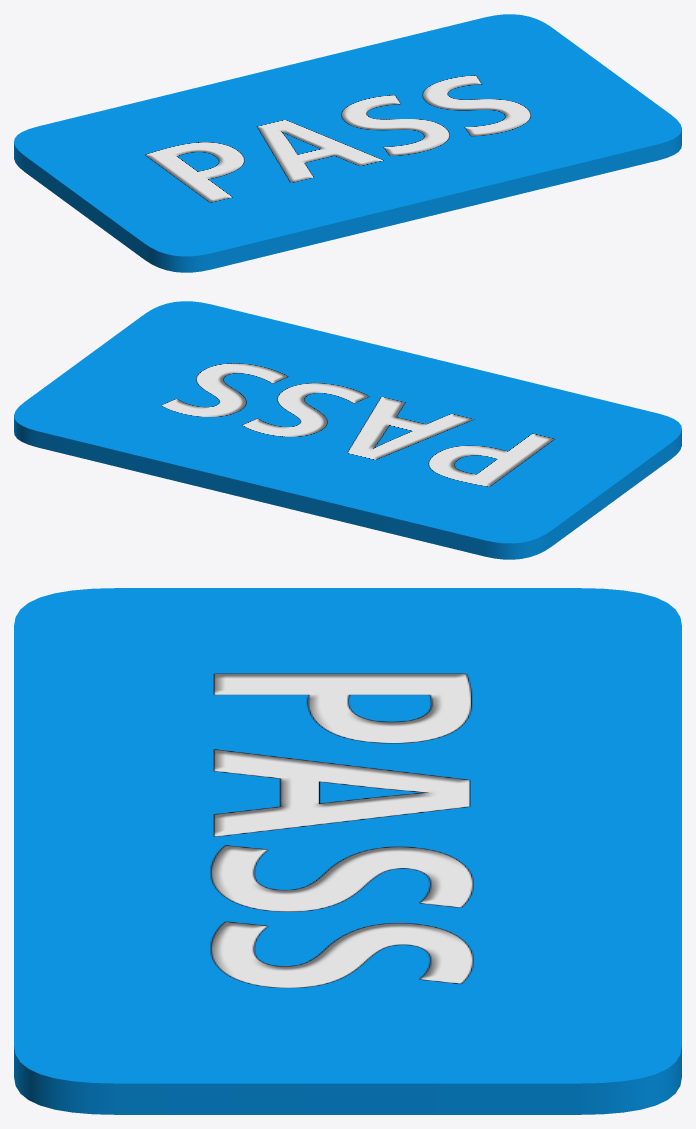
File: CardKey.fbx
The picture shows the model from 3 angles, top to bottom: view 1: azimuth 30°, elevation 25°; view 2: azimuth 150°, elevation 25°; view 3: azimuth 270°, elevation 25°; orthographic projection. The views are drawn at different scales.
Parts seen in each view (by area): view 1: Box001; view 2: Box001; view 3: Box001.
Boxes of the visible parts, box(x1,y1,x2,y2) form: Box001: box(14, 14, 681, 272); Box001: box(14, 301, 681, 559); Box001: box(14, 588, 681, 1114).
Bounding box in the file's own units: 17.61 × 0.5191 × 10.03.
Materials: 1 (1 with a texture image).
